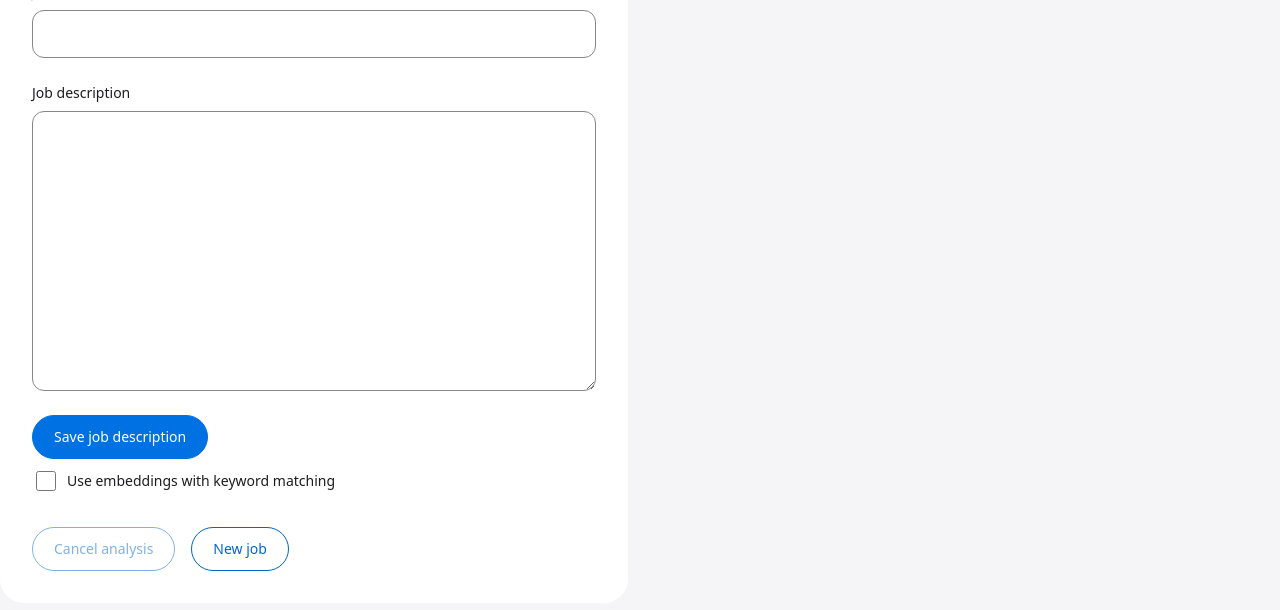
it: Phase 2 workflows › saves a pasted job and displays requirements and gaps
The width and height of the screenshot is (1280, 610).
(page scrolled)
Type "Required skills: Python and SQL." into the text box labelled "Job description". click: (314, 251)
box: [32,111,596,391]
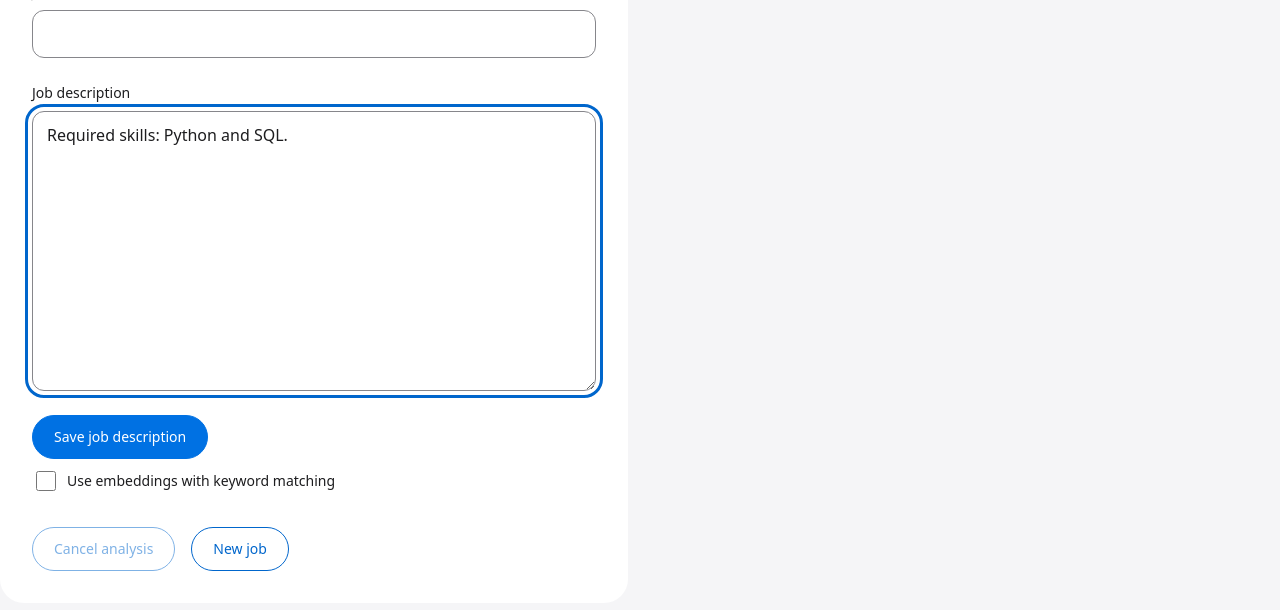
Click the button "Save job description". click: (120, 437)
box: [32,415,208,459]
(page scrolled)
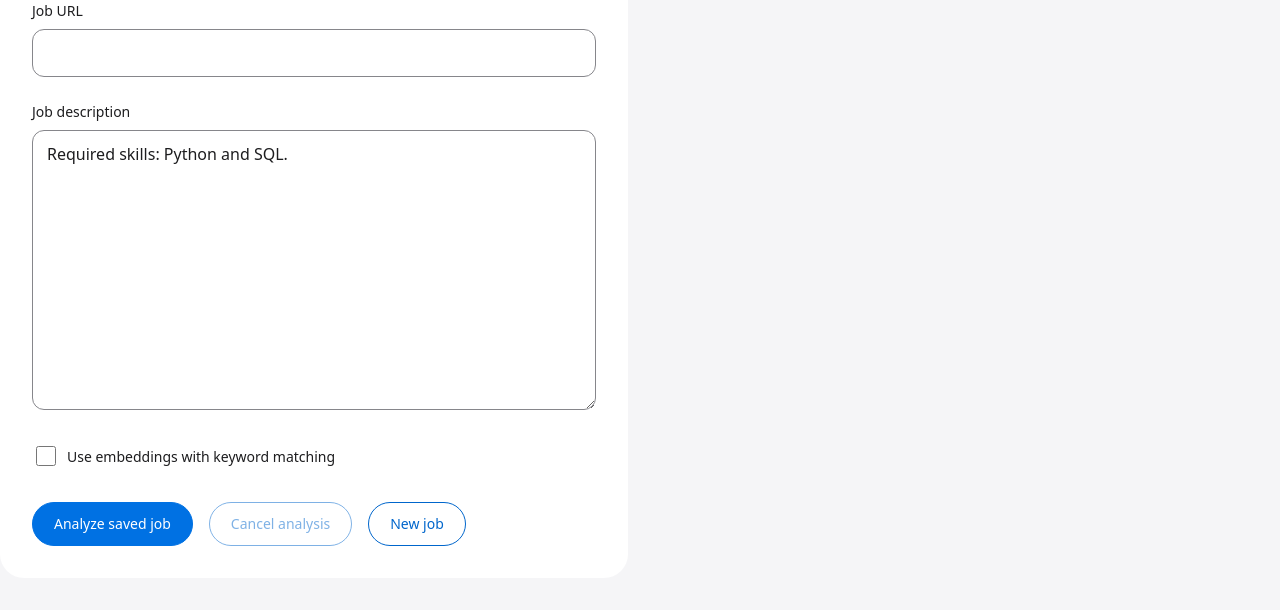
Click the button "Analyze saved job". click: (112, 524)
box: [32,502,193,546]
(page scrolled)
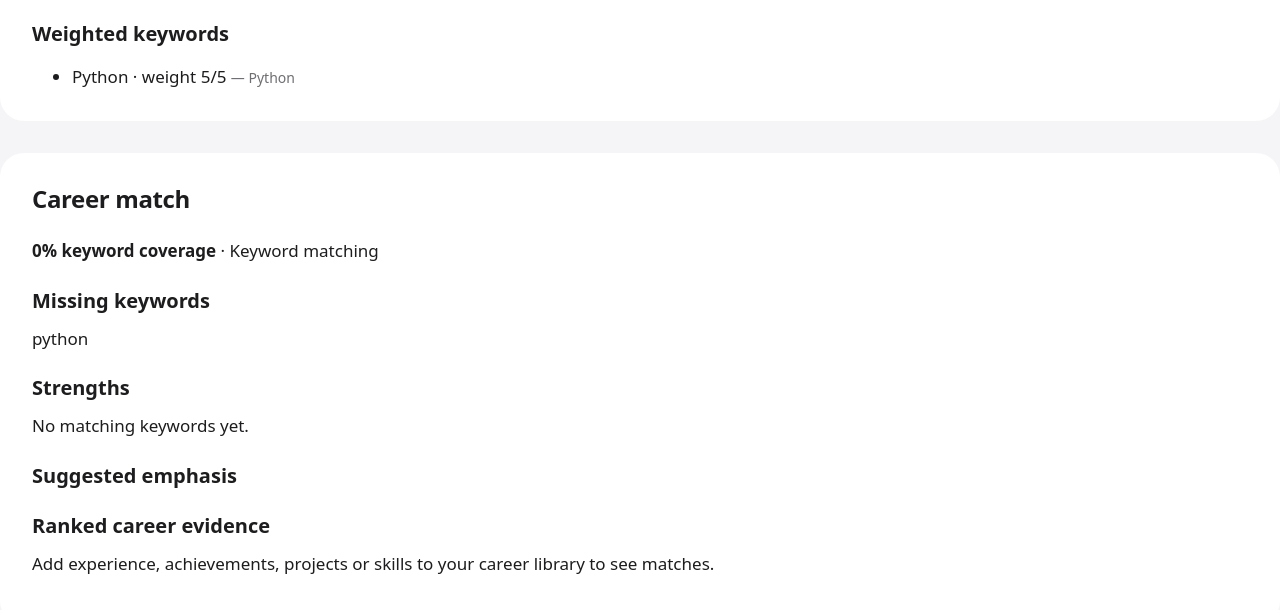
Result: the heading "Career match" is shown at [32,182,190,215]
Result: the text "0% keyword coverage" is shown at [32,239,216,262]
